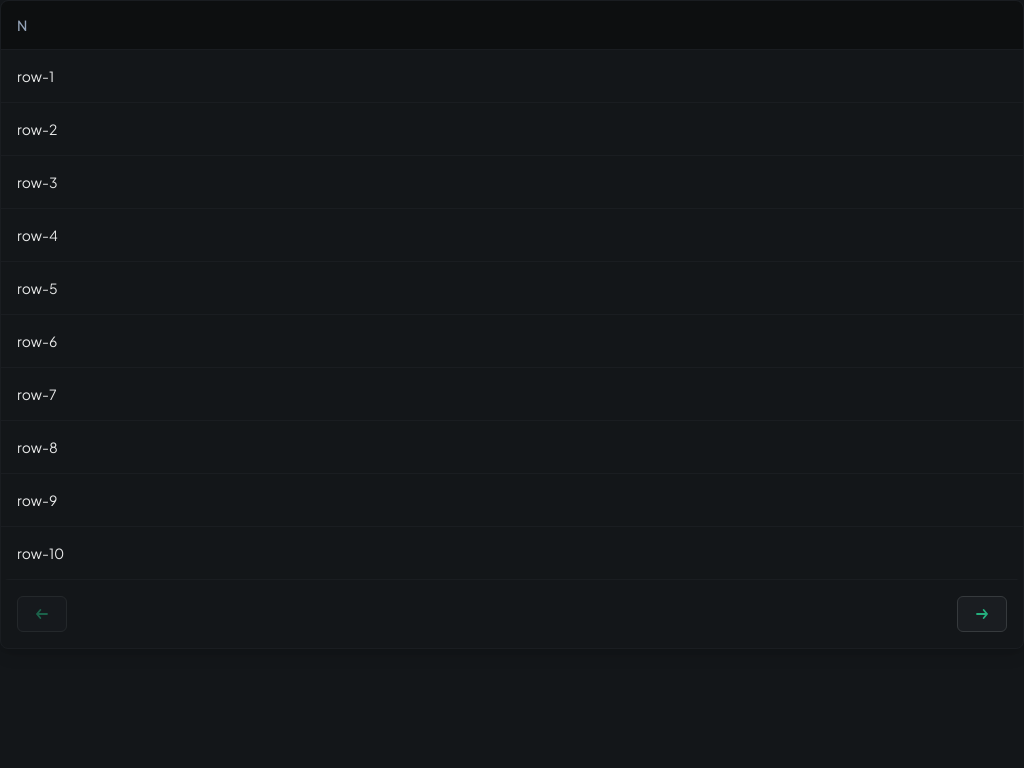
DataTable › UI-09 pages through more than 10 rows
Expected: the text "row-1" is shown, [1,49,1023,102]
Expected: the text "row-11" is not shown
Step 1. Click the 2nd button → (982, 614), box [957,596,1007,632]
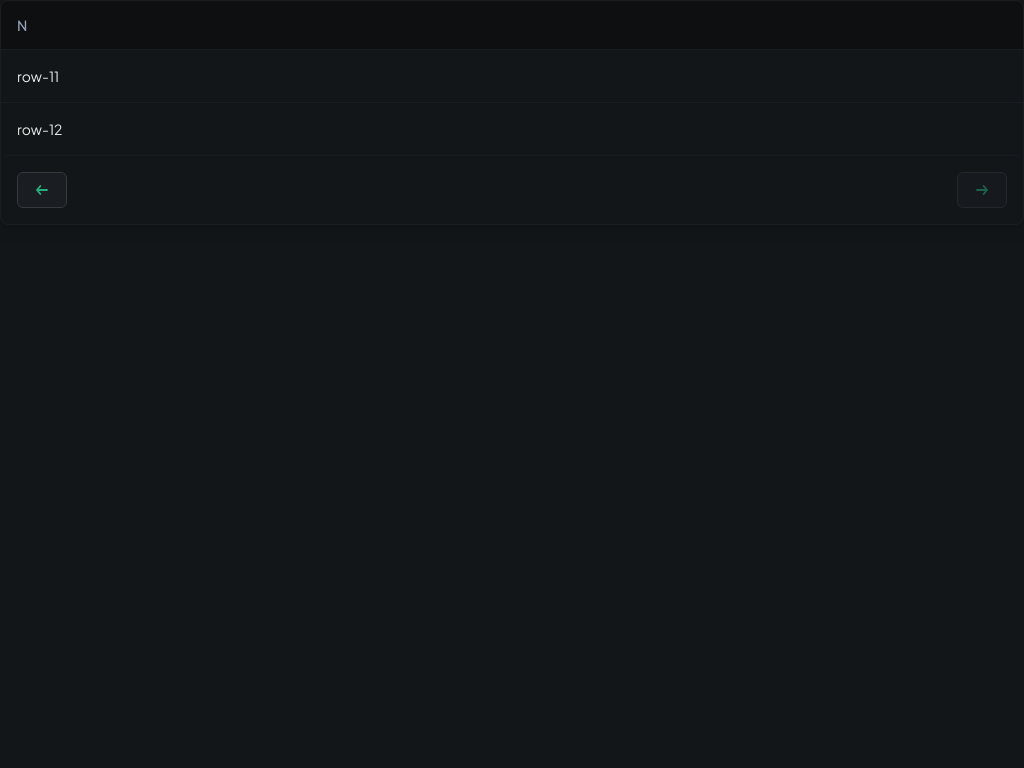
Expected: the text "row-11" is shown, [1,49,1023,102]
Expected: the 2nd button is disabled, [957,172,1007,208]
